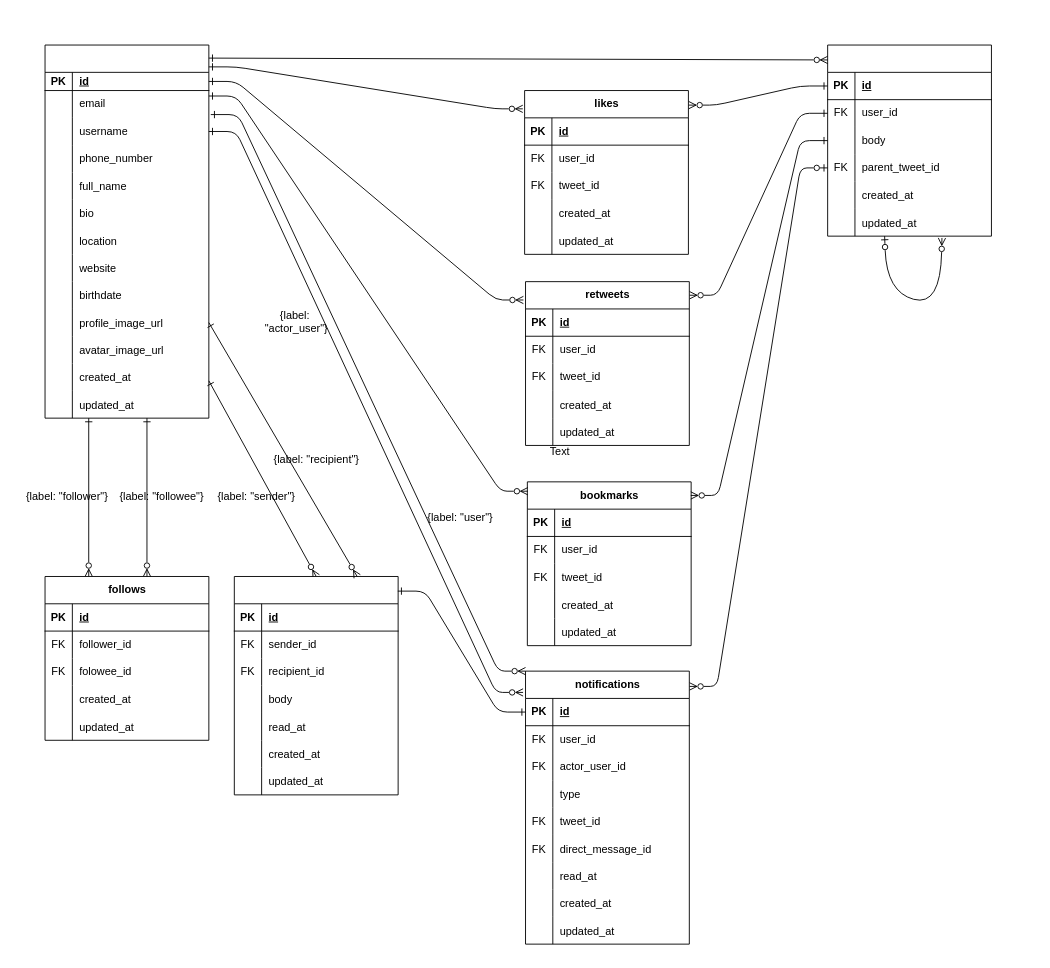
Image size: 1050x968. Some labels were removed from this diagram. The box of each missing label's shape, as (x1, y1, x2, y2) in pixels:
direct_messages: (233, 576, 398, 795)
tweets: (827, 44, 991, 236)
users: (44, 44, 209, 418)
